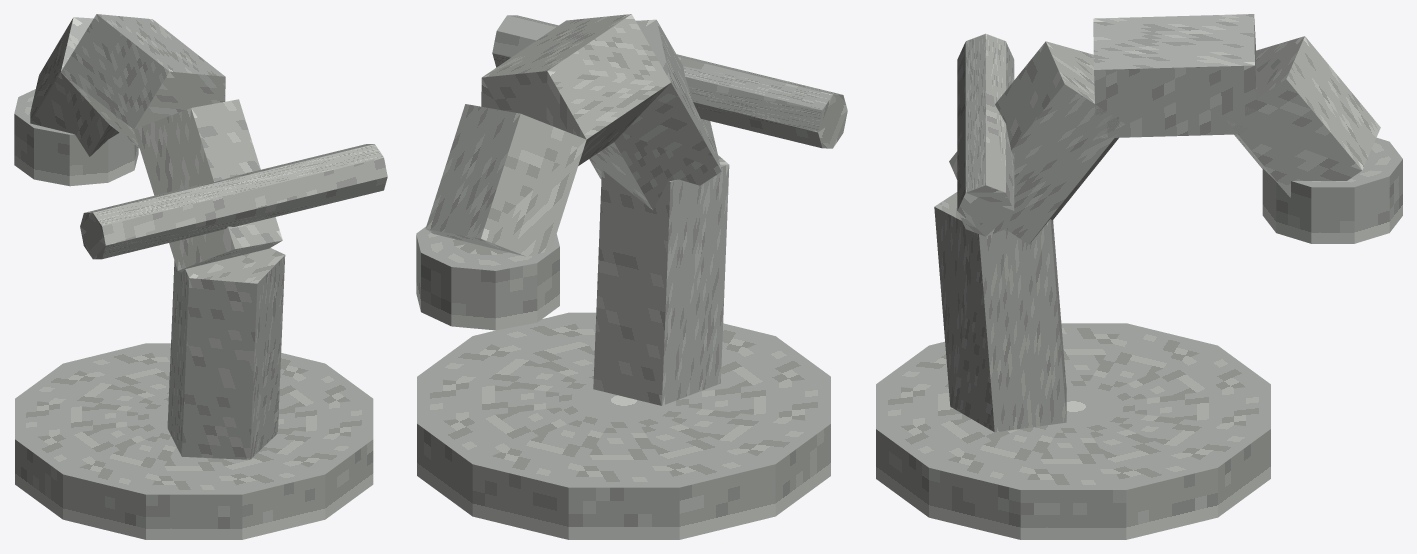
File: water_faucet.glb
3 views of the same model, side by side, from view 1: azimuth 30°, elevation 25°; view 2: azimuth 150°, elevation 25°; view 3: azimuth 270°, elevation 25° (orthographic). The views are drawn at different scales.
Parts seen in each view (by area): view 1: block_mounting flange, block_cast faucet spout 0, block_cross handle, block_cast faucet spout 2, block_cast faucet spout 1, block_aerator, block_cast faucet spout 3; view 2: block_mounting flange, block_cast faucet spout 0, block_cast faucet spout 3, block_cast faucet spout 2, block_aerator, block_cross handle, block_cast faucet spout 1; view 3: block_mounting flange, block_cast faucet spout 0, block_cast faucet spout 2, block_cast faucet spout 1, block_cast faucet spout 3, block_cross handle, block_aerator.
Boxes of the visible parts, x1,y1,x2,y2 form: block_mounting flange: (15, 343, 373, 539); block_cast faucet spout 0: (167, 248, 285, 459); block_cross handle: (80, 144, 387, 259); block_cast faucet spout 2: (61, 14, 225, 148); block_cast faucet spout 1: (134, 99, 282, 272); block_aerator: (14, 89, 138, 186); block_cast faucet spout 3: (30, 17, 119, 156); block_mounting flange: (417, 312, 830, 539); block_cast faucet spout 0: (593, 155, 729, 405); block_cast faucet spout 3: (425, 104, 586, 256); block_cast faucet spout 2: (481, 14, 670, 165); block_aerator: (416, 226, 559, 330); block_cross handle: (492, 15, 847, 148); block_cast faucet spout 1: (589, 19, 721, 209); block_mounting flange: (876, 323, 1270, 539); block_cast faucet spout 0: (934, 192, 1066, 432); block_cast faucet spout 2: (1093, 14, 1257, 138); block_cast faucet spout 1: (949, 41, 1125, 244); block_cast faucet spout 3: (1226, 36, 1380, 197); block_cross handle: (957, 33, 1014, 236); block_aerator: (1262, 137, 1402, 243).
Size of the model in its own units: 0.128 by 0.1553 by 0.1708.
Materials: 1 (1 with a texture image).
